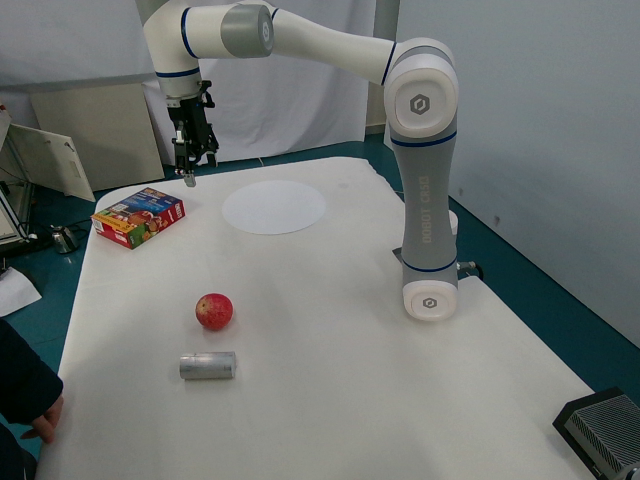apple: (188, 289, 240, 334)
metalROD: (173, 345, 243, 382)
